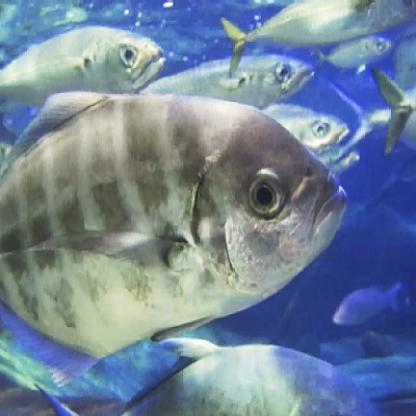Carangidae -Jacks-: (1, 84, 345, 386)
